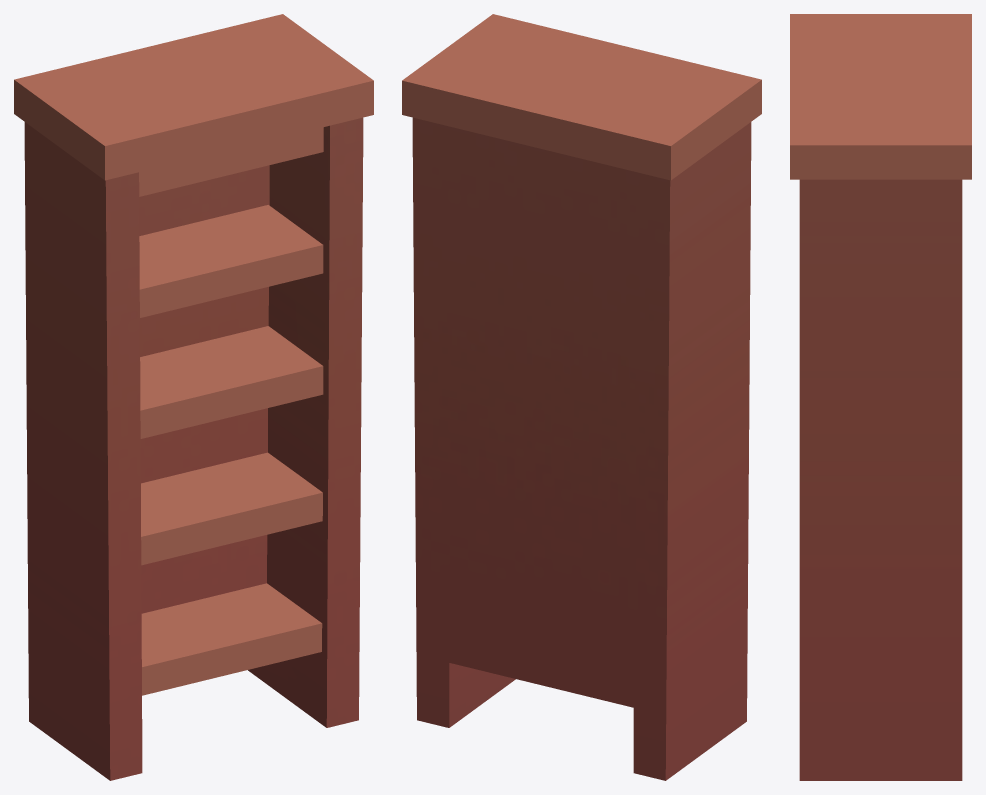
File: SM_Shelf_Book_Taller_1_01.fbx
The picture shows the model from 3 angles, left to right: view 1: azimuth 30°, elevation 25°; view 2: azimuth 150°, elevation 25°; view 3: azimuth 270°, elevation 25°; orthographic projection.
Parts seen in each view (by area): view 1: SM_Shelf_Book_Taller_1_01; view 2: SM_Shelf_Book_Taller_1_01; view 3: SM_Shelf_Book_Taller_1_01.
Part boxes in pixels (left/top/right/bottom): SM_Shelf_Book_Taller_1_01: left=14, top=14, right=373, bottom=780; SM_Shelf_Book_Taller_1_01: left=402, top=14, right=761, bottom=780; SM_Shelf_Book_Taller_1_01: left=790, top=14, right=971, bottom=780.
Size of the model in its own units: 119 by 271 by 69.77.
